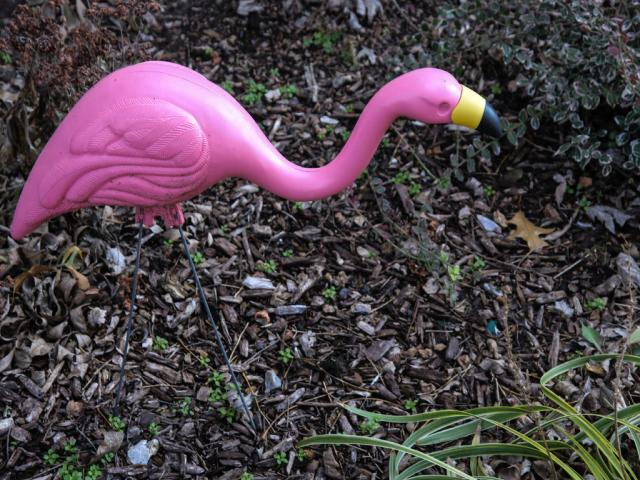Bird: (10, 59, 504, 430)
